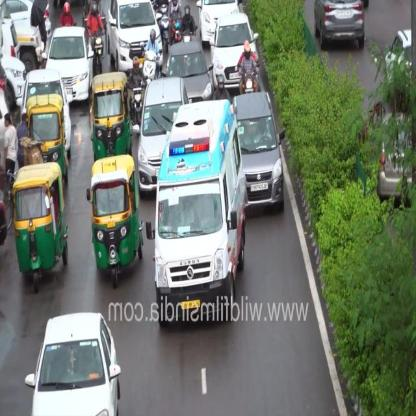auto-rikshaw: (86, 152, 145, 290), (10, 160, 70, 293), (89, 70, 133, 162)
bike: (5, 167, 19, 231), (140, 42, 162, 82), (237, 61, 261, 95), (90, 30, 106, 74), (130, 86, 144, 126)
car: (24, 311, 122, 415), (132, 76, 192, 197), (232, 90, 286, 214), (21, 66, 73, 158), (107, 0, 164, 74), (210, 11, 260, 93), (45, 24, 95, 104), (375, 109, 415, 207), (165, 37, 215, 103), (314, 1, 366, 52), (196, 0, 242, 48)
priority: (147, 98, 248, 326)
